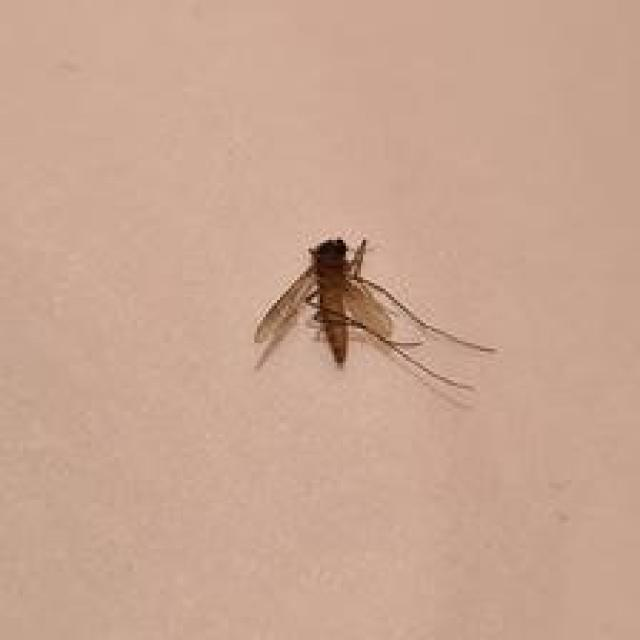Culex: (252, 234, 497, 406)
